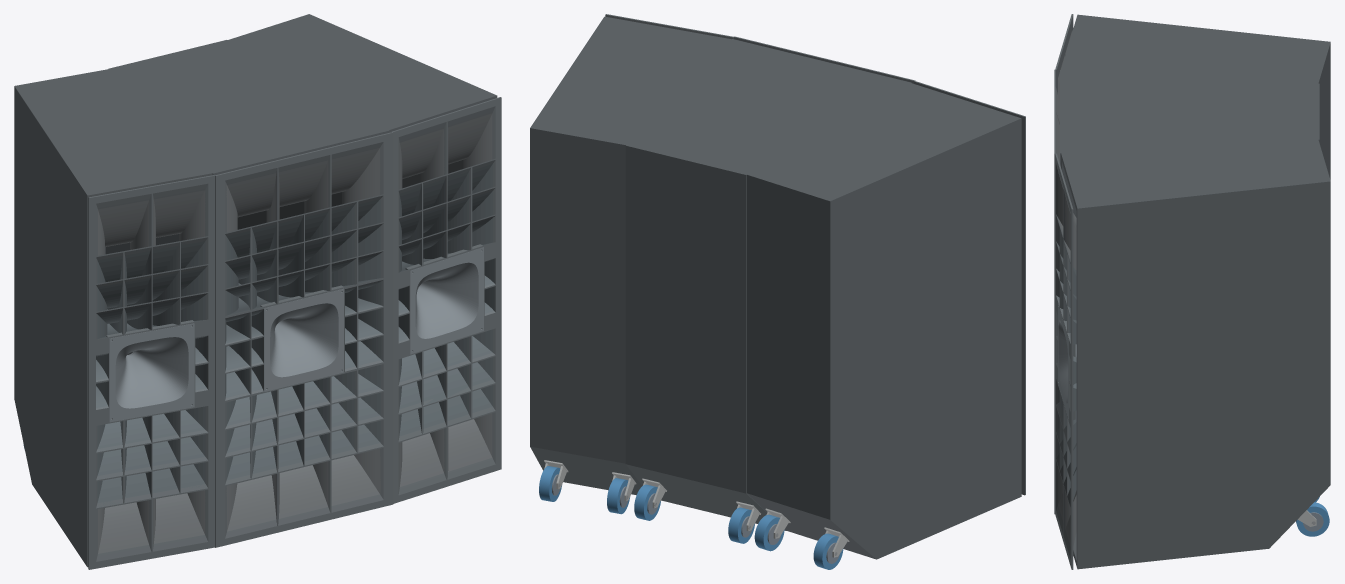
File: Diamantstumpf_R06_Gesamtaufbau.glb
3 views of the same model, side by side, from view 1: azimuth 30°, elevation 25°; view 2: azimuth 150°, elevation 25°; view 3: azimuth 270°, elevation 25° (orthographic). The views are drawn at different scales.
Visible parts, largest first — view 1: Top L · Gehäuse, Mitte · Tiefmittelton · Frontkanäle, Mitte · vollflächiger Frontrahmen, Mitte · Gehäuse, Top L · vollflächiger Frontrahmen, Top L · Tiefmittelton · Frontkanäle, Top R · vollflächiger Frontrahmen, Top R · Gehäuse, Top R · Tiefmittelton · Frontkanäle, Mitte · Bassmund · Frontkanäle, Top L · Bassmund · Frontkanäle, Top R · Bassmund · Frontkanäle (+3 smaller); view 2: Top L · Gehäuse, Mitte · Gehäuse, Top R · Gehäuse, Top L · vollflächiger Frontrahmen, Mitte · vollflächiger Frontrahmen, Top L · Bluewheel 2 · Ø100; view 3: Top R · Gehäuse, Mitte · Gehäuse, Top L · Gehäuse, Top R · vollflächiger Frontrahmen, Top R · Tiefmittelton · Frontkanäle, Top R · Bassmund · Frontkanäle, Top R · A · Konturhorn, Mitte · vollflächiger Frontrahmen, Top R · Bluewheel 2 · Ø100, Top L · vollflächiger Frontrahmen.
Boxes of the visible parts, x1,y1,x2,y2 form: Top L · Gehäuse: (14, 69, 212, 567); Mitte · Tiefmittelton · Frontkanäle: (225, 199, 383, 480); Mitte · vollflächiger Frontrahmen: (215, 132, 393, 547); Mitte · Gehäuse: (108, 40, 389, 229); Top L · vollflächiger Frontrahmen: (88, 175, 214, 569); Top L · Tiefmittelton · Frontkanäle: (96, 241, 207, 507); Top R · vollflächiger Frontrahmen: (392, 97, 501, 503); Top R · Gehäuse: (228, 14, 497, 188); Top R · Tiefmittelton · Frontkanäle: (398, 164, 494, 436); Mitte · Bassmund · Frontkanäle: (226, 148, 380, 531); Top L · Bassmund · Frontkanäle: (98, 190, 205, 553); Top R · Bassmund · Frontkanäle: (399, 113, 492, 486); Top L · Gehäuse: (747, 83, 1021, 559); Mitte · Gehäuse: (625, 39, 911, 530); Top R · Gehäuse: (530, 16, 731, 495); Top L · vollflächiger Frontrahmen: (914, 81, 1025, 495); Mitte · vollflächiger Frontrahmen: (734, 36, 915, 83); Top L · Bluewheel 2 · Ø100: (813, 533, 843, 569); Top R · Gehäuse: (1061, 139, 1330, 569); Mitte · Gehäuse: (1060, 70, 1319, 166); Top L · Gehäuse: (1061, 14, 1330, 179); Top R · vollflächiger Frontrahmen: (1055, 153, 1073, 569); Top R · Tiefmittelton · Frontkanäle: (1056, 222, 1076, 506); Top R · Bassmund · Frontkanäle: (1057, 170, 1076, 546); Top R · A · Konturhorn: (1058, 303, 1076, 420); Mitte · vollflächiger Frontrahmen: (1054, 69, 1055, 514); Top R · Bluewheel 2 · Ø100: (1296, 502, 1329, 536); Top L · vollflächiger Frontrahmen: (1055, 14, 1073, 94).
Bounding box in the file's own units: 1.39 × 1.2 × 0.8341.
